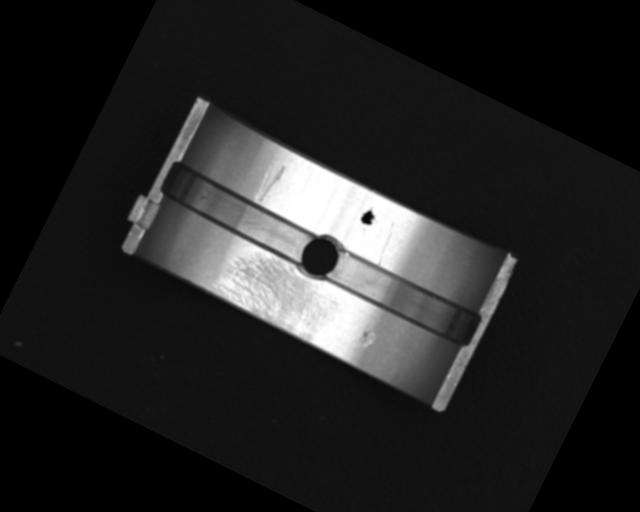blot: (357, 203, 380, 228)
bruise: (357, 328, 376, 350)
gap: (155, 159, 315, 265), (324, 244, 483, 349)
hole: (293, 225, 349, 285)
nick: (250, 157, 288, 206), (372, 223, 399, 265)
scratch: (209, 238, 348, 348)
